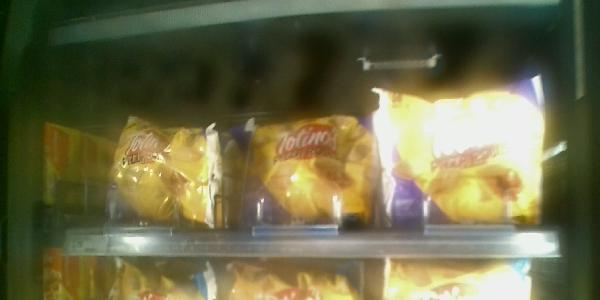icecream: (376, 82, 548, 227), (102, 107, 239, 234), (242, 108, 375, 232)
